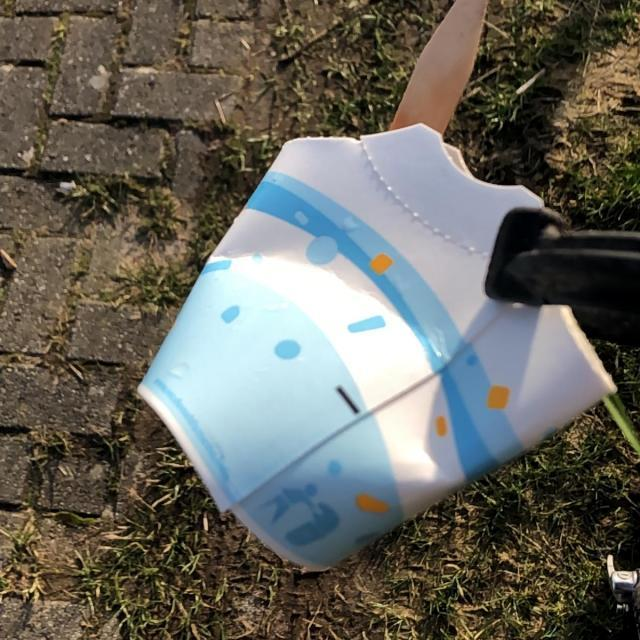Paper: (132, 118, 620, 574)
